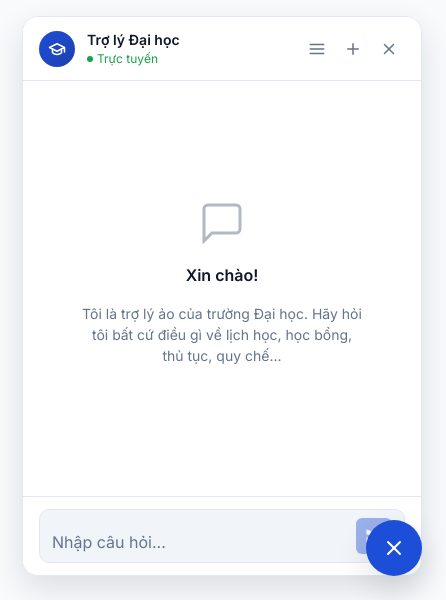
ChatWidget › hiện tin của người dùng và câu trả lời của trợ lý
Type "Lịch thi?" into the text box named "Nhập tin nhắn" at (200, 542), box top-left (52, 530), bottom-right (348, 554)
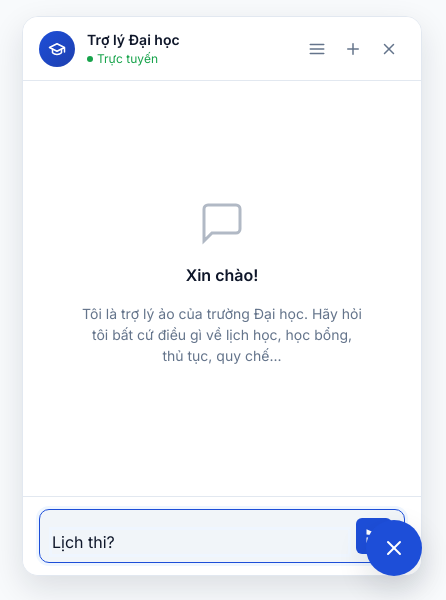
Press Enter
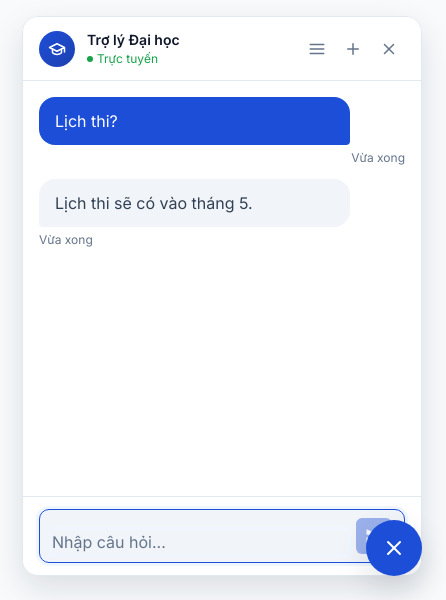
Expected: the text "Lịch thi?" is shown, top-left (39, 97), bottom-right (350, 145)
Expected: the text "Lịch thi sẽ có vào tháng 5." is shown, top-left (39, 179), bottom-right (350, 227)
